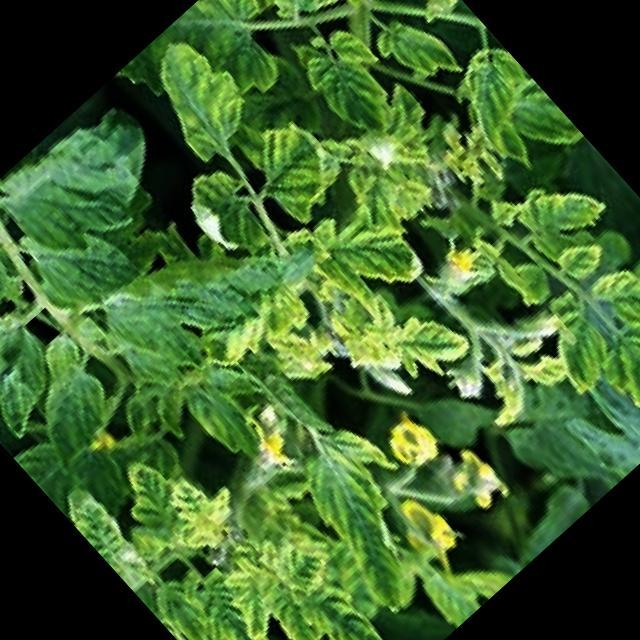Tomato yellow virus leaf: (253, 396, 466, 616), (125, 23, 268, 169), (278, 9, 418, 153), (224, 96, 361, 234), (308, 184, 438, 316), (424, 39, 548, 163), (102, 449, 219, 570), (494, 158, 609, 272), (376, 290, 486, 401), (171, 156, 278, 264), (369, 2, 470, 105), (530, 312, 624, 406), (181, 567, 297, 640), (578, 305, 640, 437), (294, 569, 403, 640), (582, 238, 640, 358)
